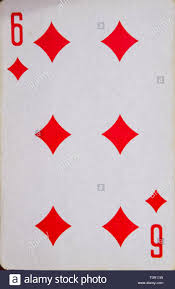six of diamonds: (1, 6, 175, 262)
